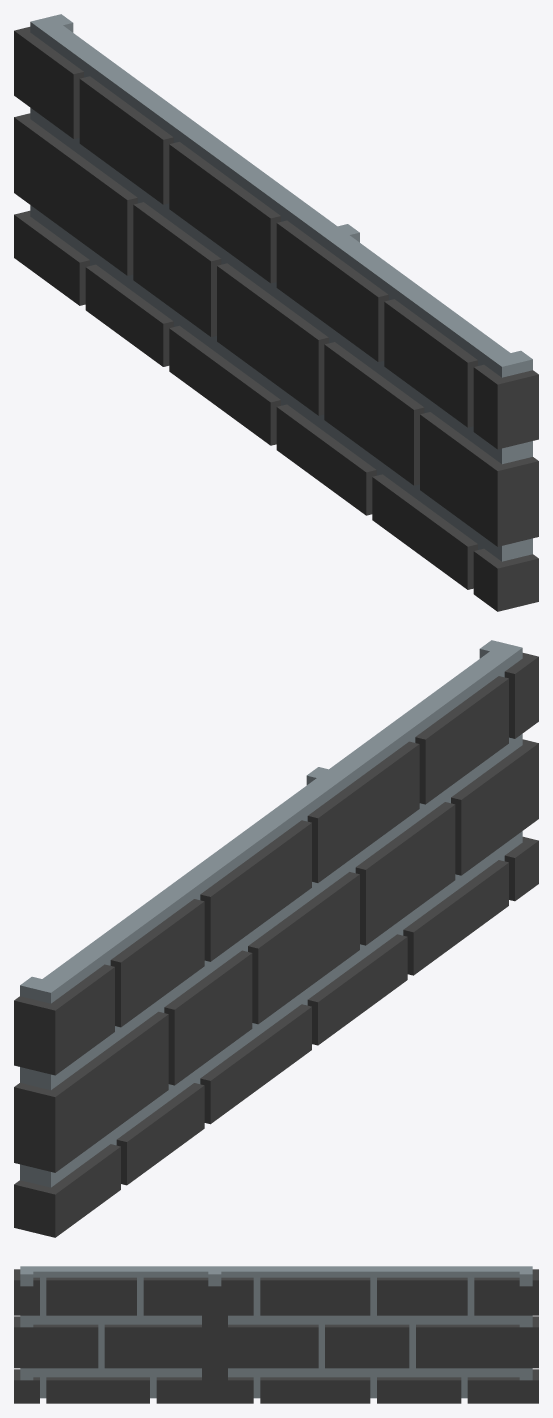
Rendered from wallc.obj.
3 views of the same model, one above another, from view 1: azimuth 30°, elevation 25°; view 2: azimuth 150°, elevation 25°; view 3: azimuth 270°, elevation 25° (orthographic). The views are drawn at different scales.
Size of the model in its own units: 0.4 by 2.2 by 8.1.
Materials: 1 (1 with a texture image).
